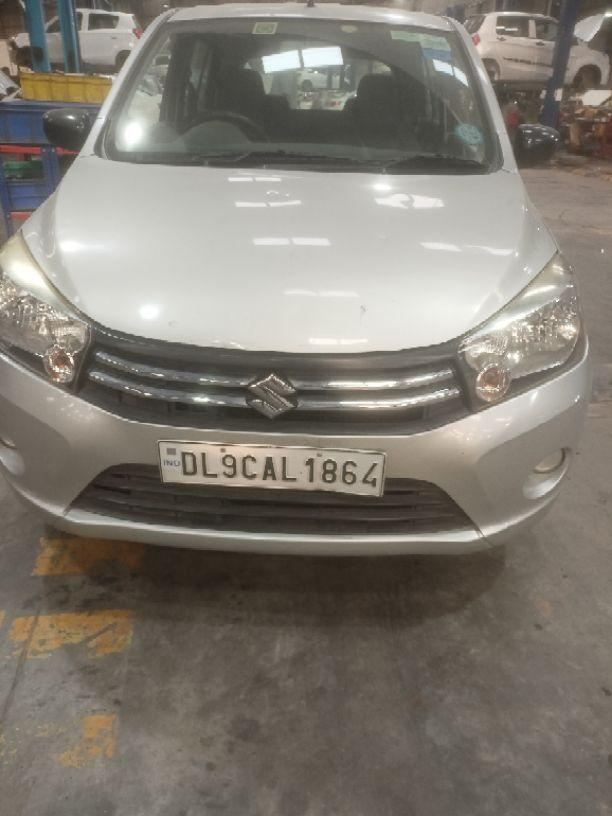license_plate: (156, 438, 386, 498)
